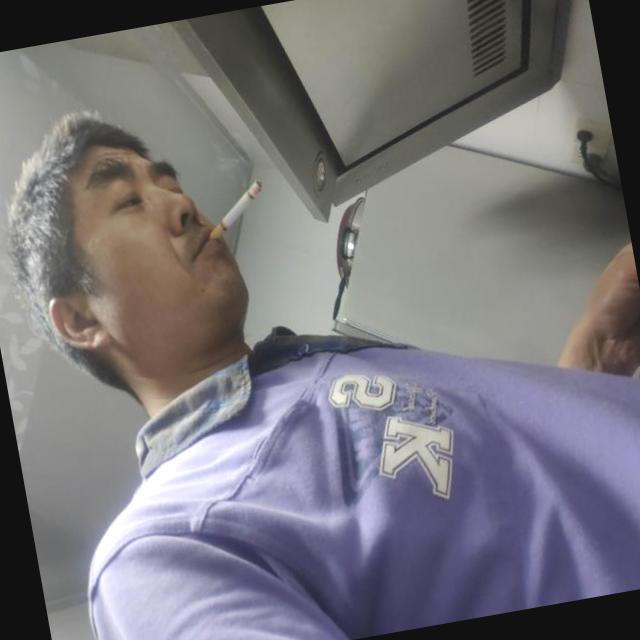cigarette: (200, 177, 270, 242)
